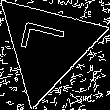L_E: (19, 25, 75, 67)
